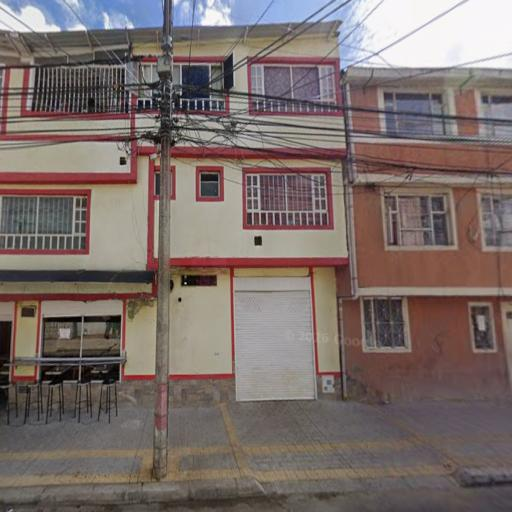Casa: (0, 17, 349, 407), (342, 63, 512, 412)
postes: (149, 0, 182, 483)
